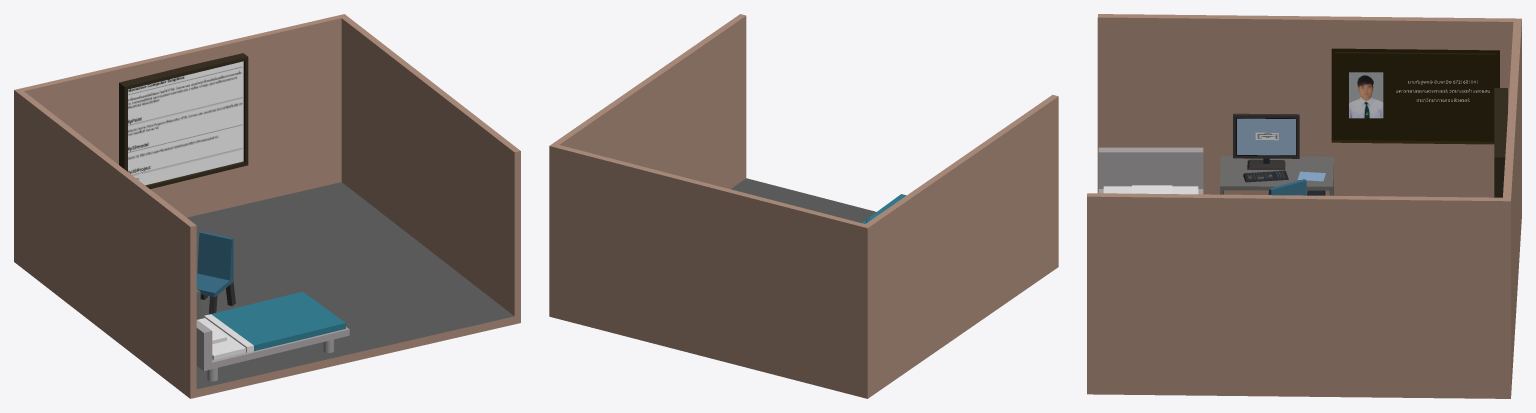
Rendered from Garage02.glb.
3 renders of one model, left to right at view 1: azimuth 30°, elevation 25°; view 2: azimuth 150°, elevation 25°; view 3: azimuth 270°, elevation 25°, orthographic. The views are drawn at different scales.
Parts seen in each view (by area): view 1: Plane, Cube.001, Cylinder, Cube; view 2: Plane; view 3: Plane, Plane.001, Desk, Cylinder, Plane.003, Cube.001, Text, Cube.
Part boxes in pixels (bbox=[...]): Plane: bbox=[14, 14, 520, 398]; Cube.001: bbox=[119, 53, 248, 189]; Cylinder: bbox=[196, 291, 349, 381]; Cube: bbox=[196, 231, 235, 314]; Plane: bbox=[549, 14, 1058, 398]; Plane: bbox=[1087, 14, 1521, 398]; Plane.001: bbox=[1331, 48, 1499, 144]; Desk: bbox=[1220, 113, 1333, 195]; Cylinder: bbox=[1098, 147, 1203, 194]; Plane.003: bbox=[1349, 72, 1383, 118]; Cube.001: bbox=[1494, 88, 1507, 197]; Text: bbox=[1396, 80, 1489, 101]; Cube: bbox=[1268, 179, 1306, 195].
Size of the model in its own units: 10.66 by 5.25 by 10.46.
Materials: 18 (6 with a texture image).
